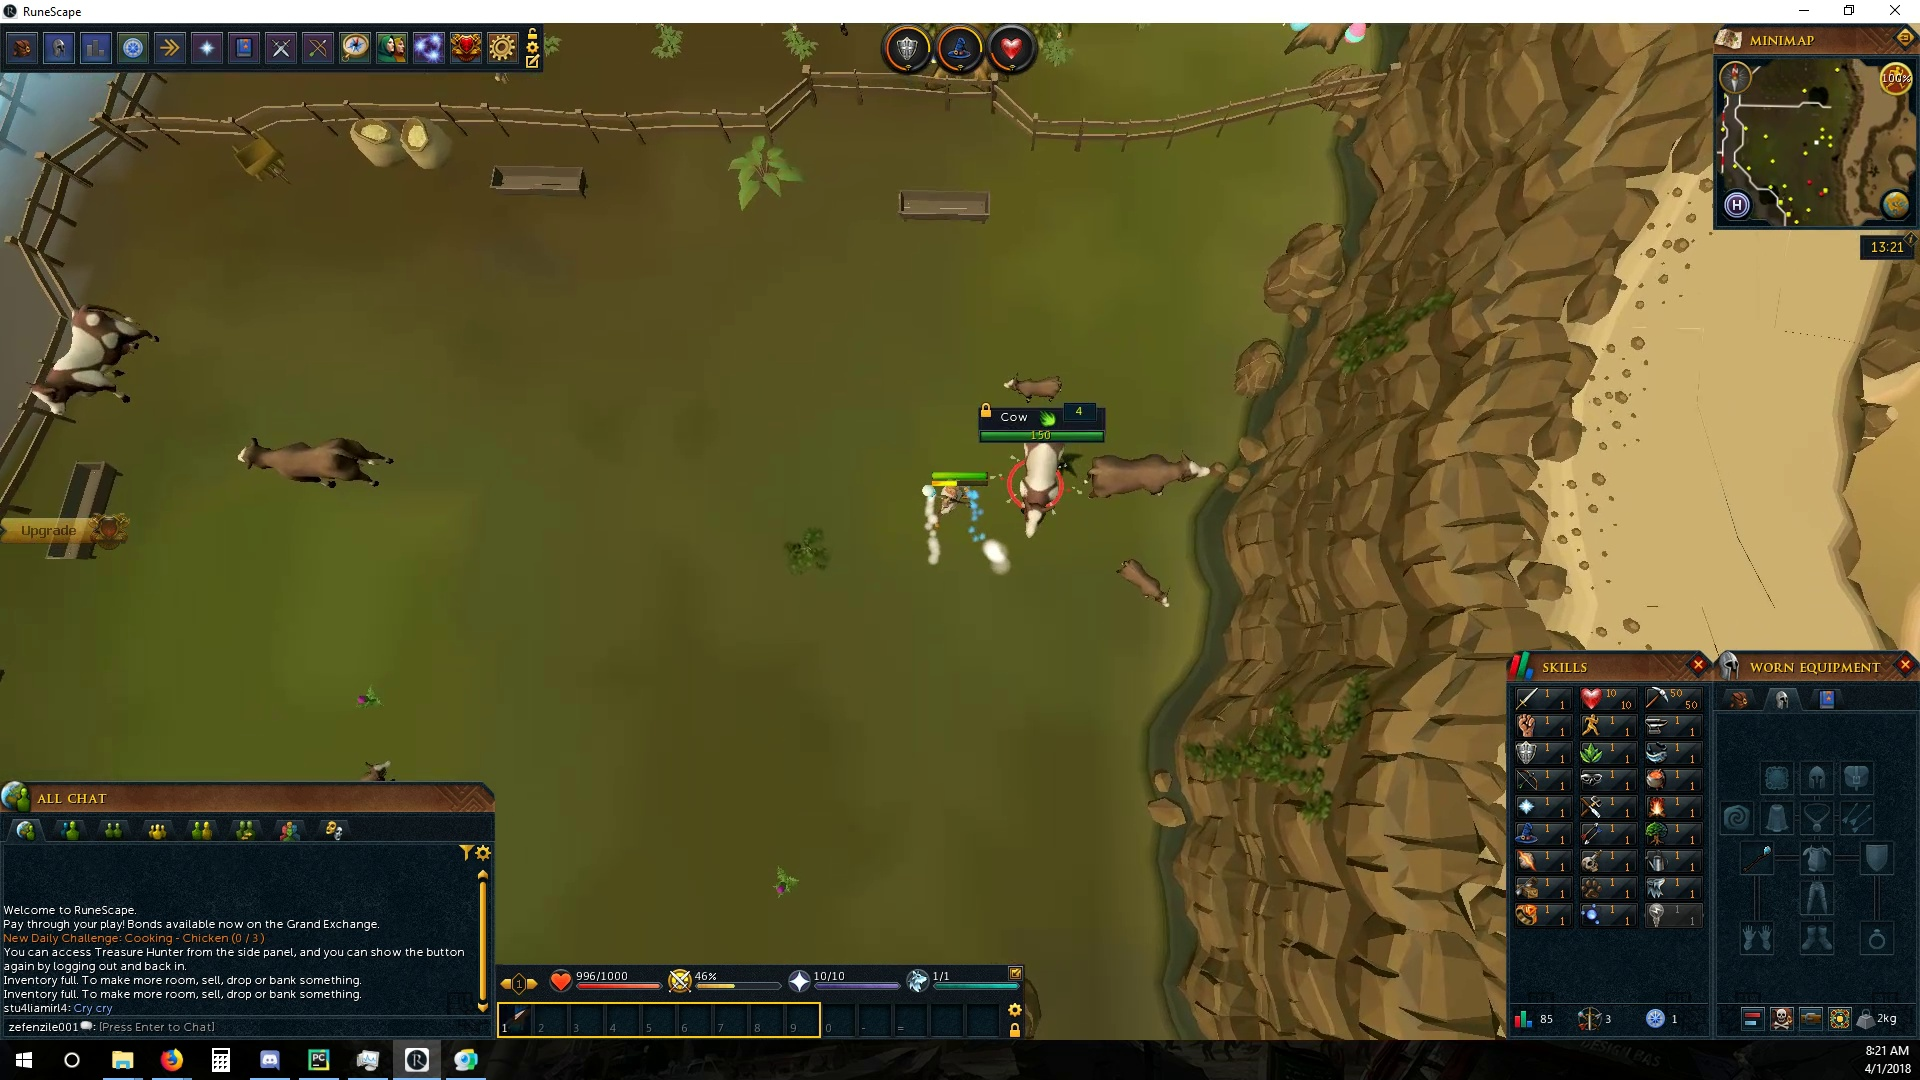calf: (1112, 556, 1175, 611), (1001, 375, 1071, 405)
cow: (32, 301, 158, 417), (233, 436, 396, 491), (1085, 448, 1213, 502), (1017, 444, 1076, 542)
